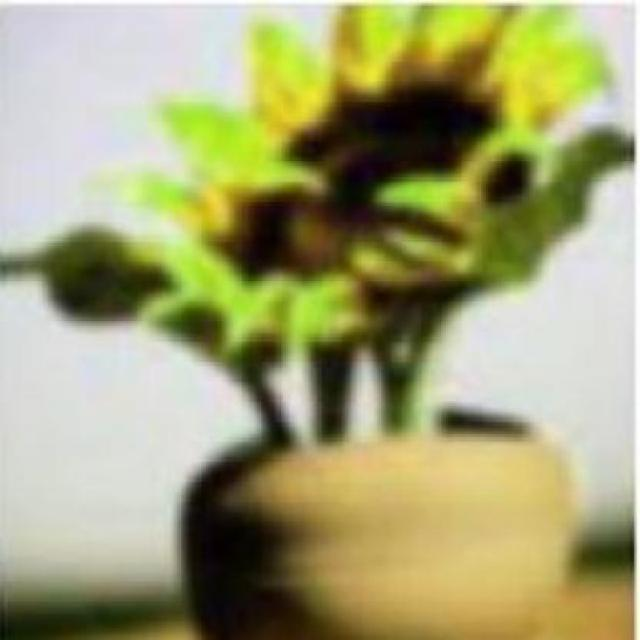sunflower: (137, 0, 640, 366)
